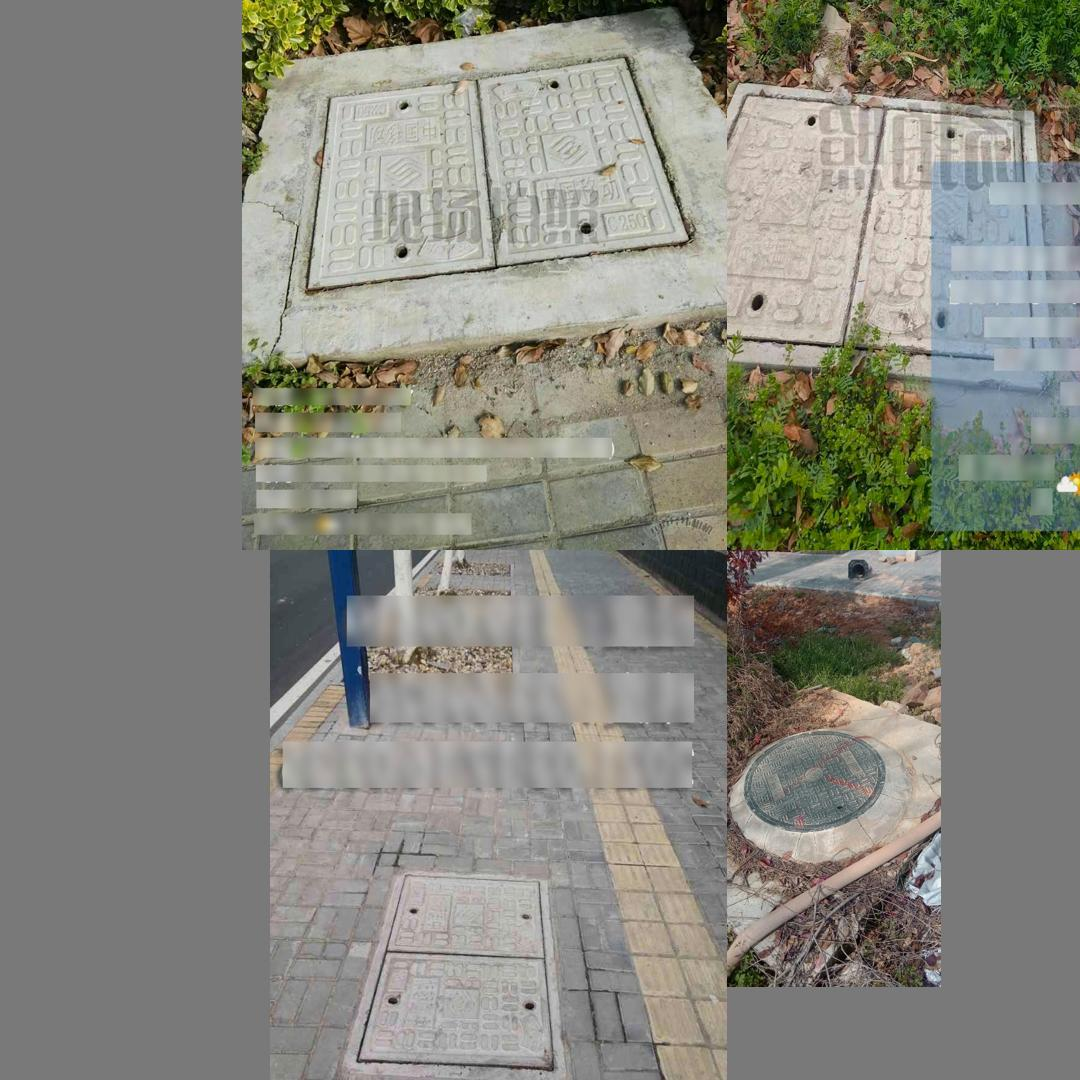good: (727, 82, 1054, 390), (287, 65, 715, 297), (339, 868, 566, 1079), (743, 729, 885, 830)
